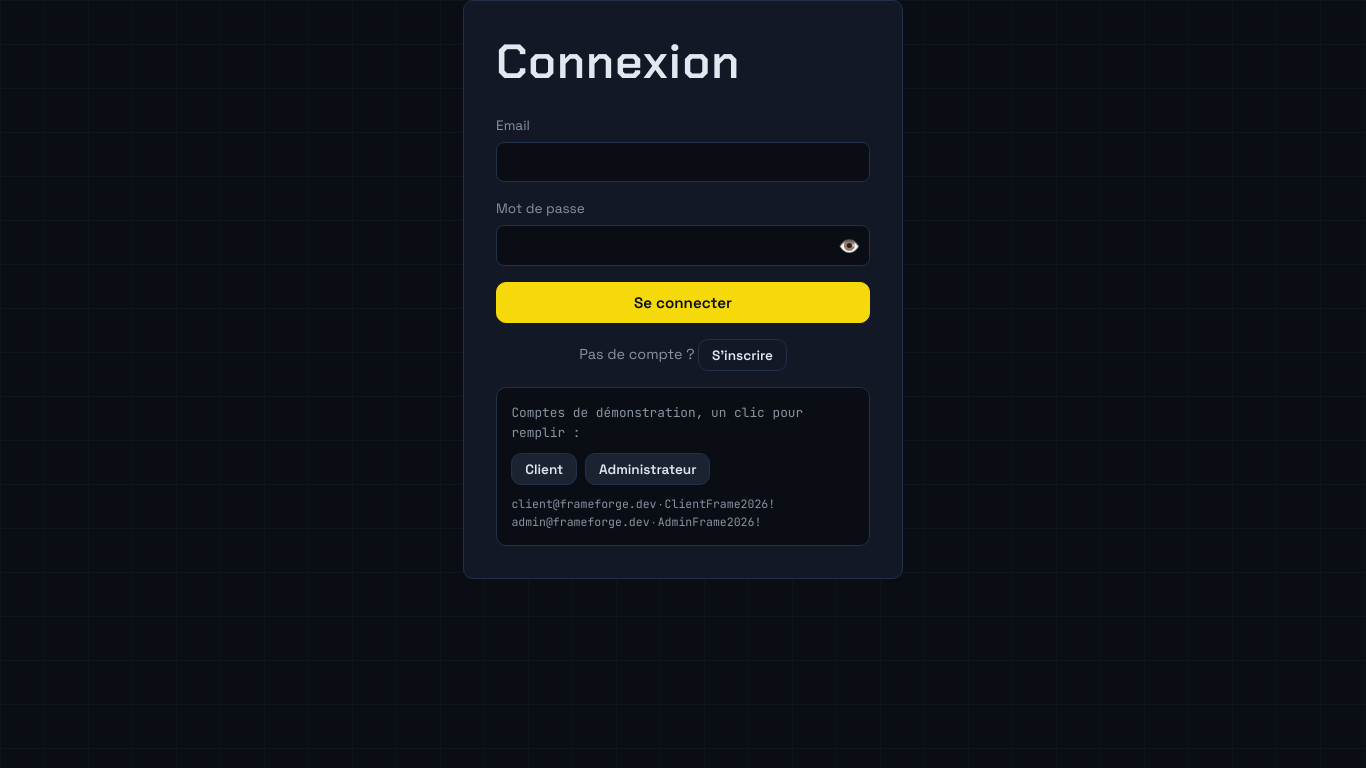
Scenario: Login › remplit explicitement chacun des comptes de démonstration
What coordinates should you click on to do the following:
click the button "Client"
I would click on:
 (544, 469)
Its box is [511,453,577,485].
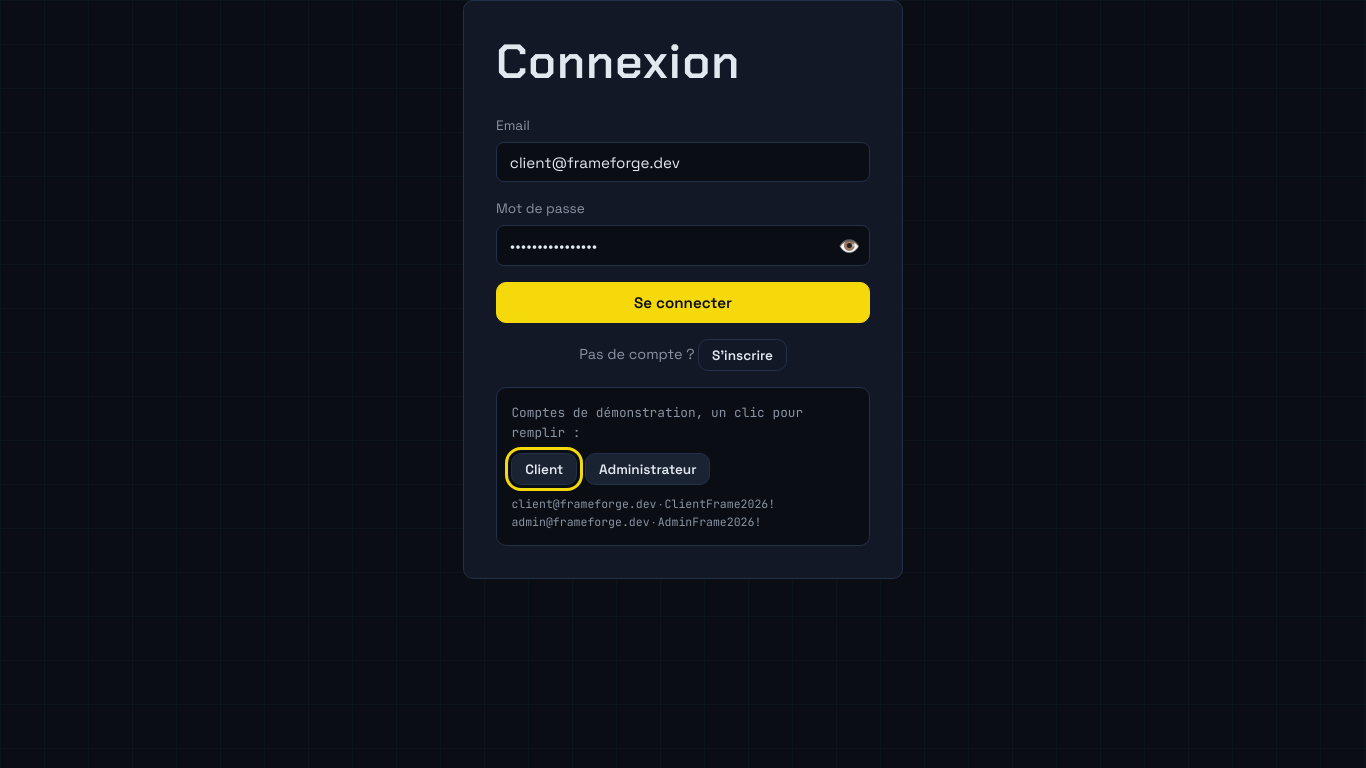
Now the field labelled "Email" holds "client@frameforge.dev", box [496,142,870,182]
Now the password field labelled "Mot de passe" holds "ClientFrame2026!", box [496,226,870,266]
What coordinates should you click on to do the following:
click the button "Administrateur"
I would click on:
 (648, 469)
Its box is [585,453,710,485].
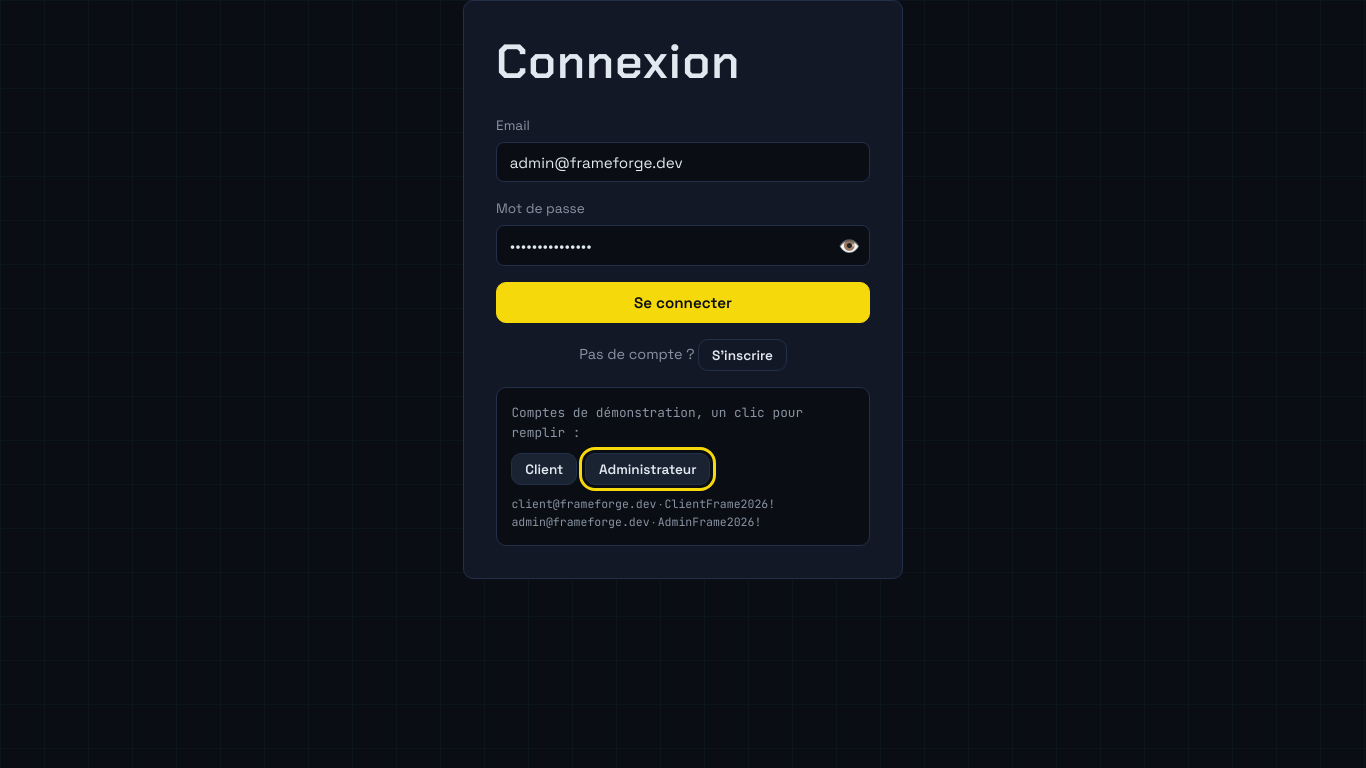
Expected: the password field labelled "Mot de passe" holds "AdminFrame2026!", [496,226,870,266]
Now the field labelled "Email" holds "admin@frameforge.dev", box [496,142,870,182]
